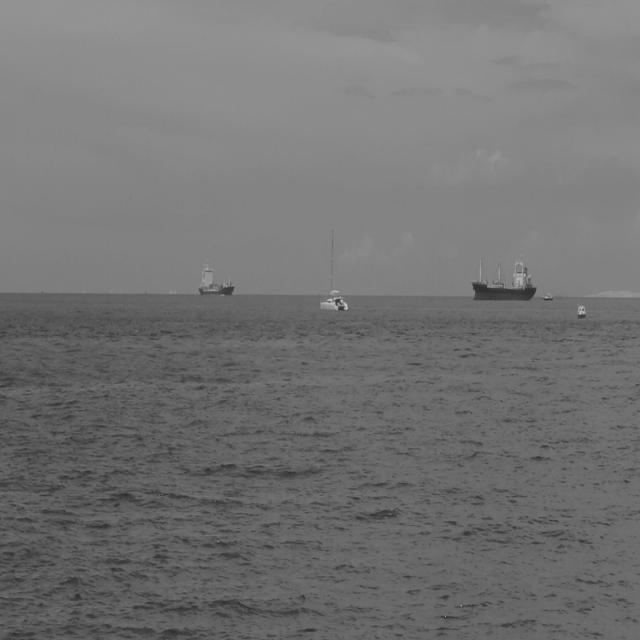ship: (469, 250, 538, 304), (319, 223, 350, 314), (197, 260, 236, 298), (575, 300, 587, 320), (543, 292, 553, 302)
